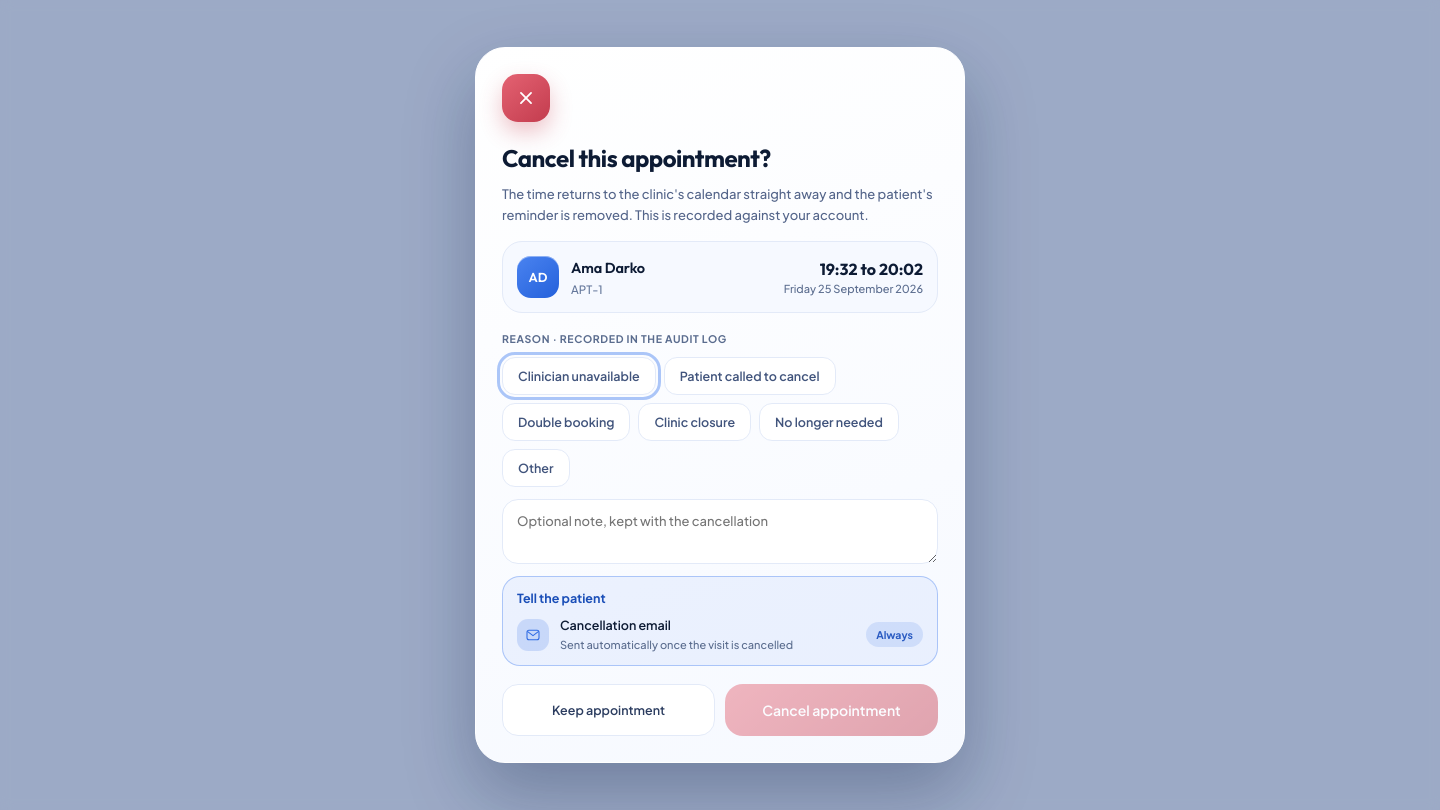
Scenario: Cancelling from the desk › warns that a patient's cancellation inside the window is late
Click the radio button labelled "Patient called to cancel" at (750, 376), box [664, 357, 836, 395]
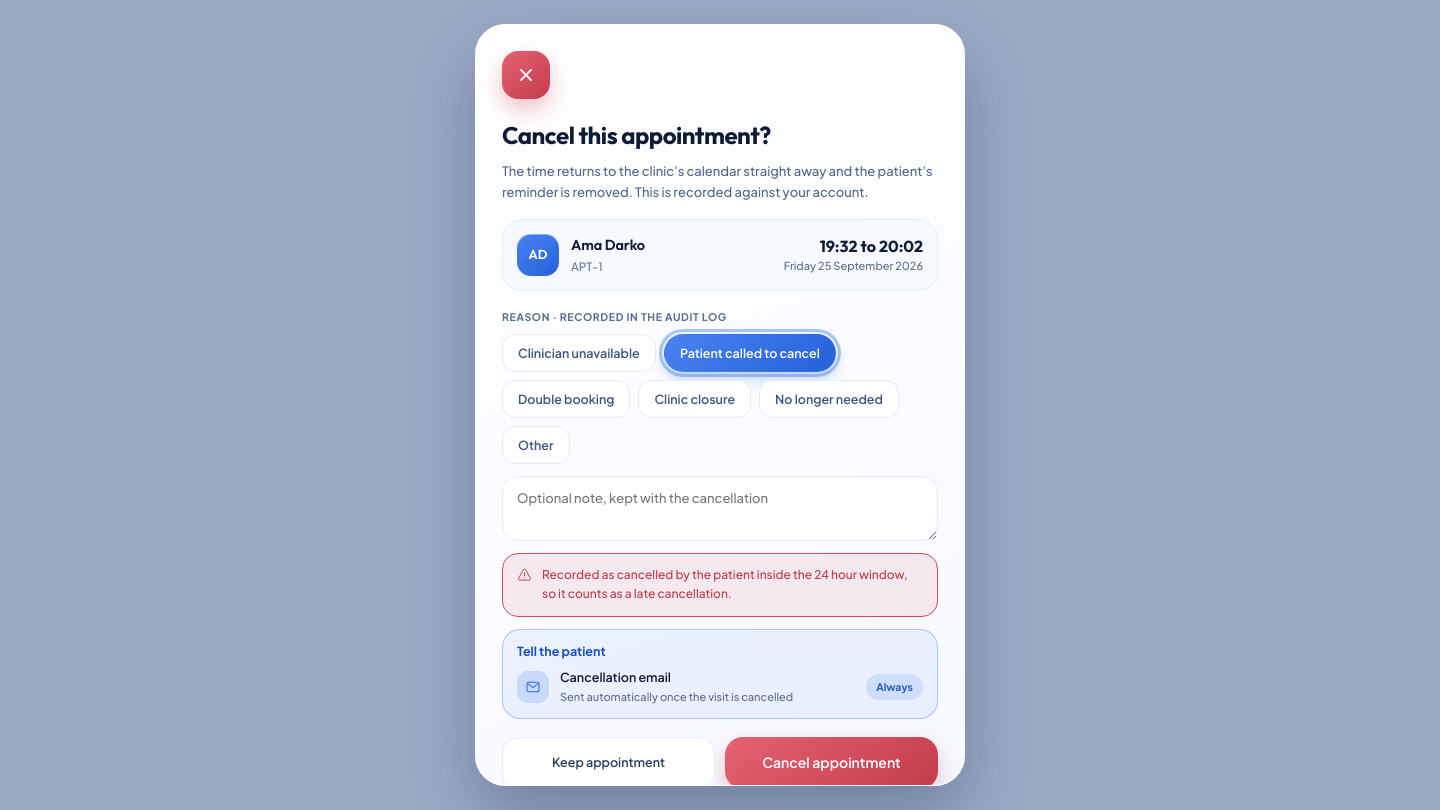
Check: the dialog "Cancel this appointment?" shows "inside the 24 hour window, so it counts as a late cancellation", box [542, 567, 908, 601]
